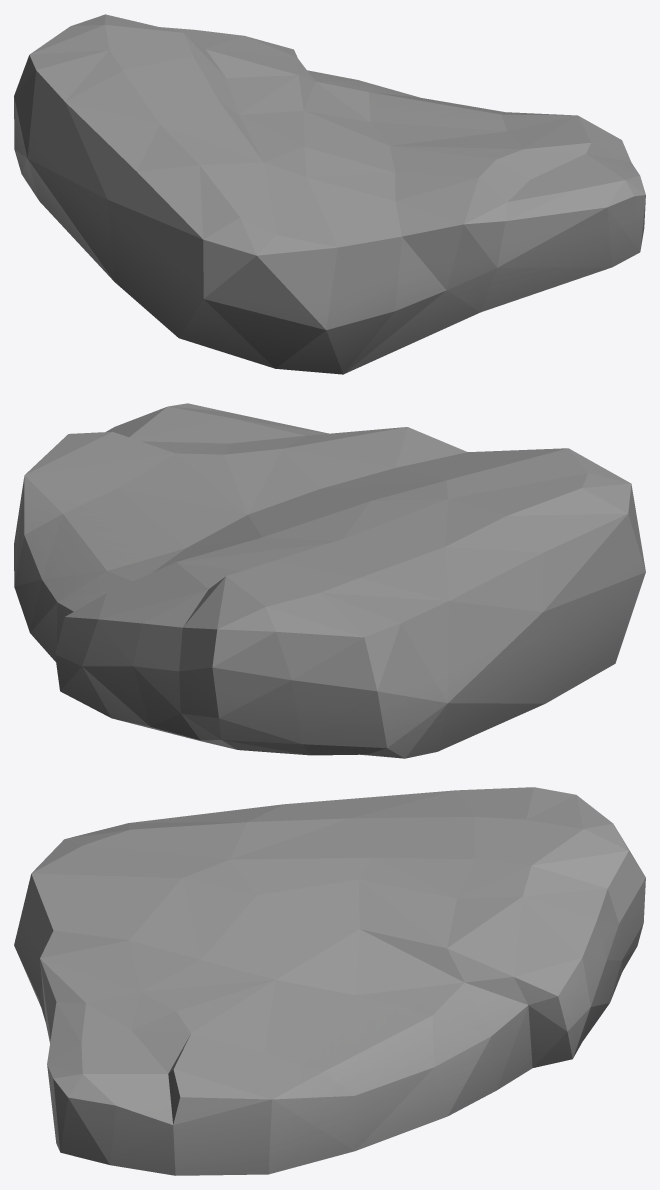
The model's file is Jungle_PlatformRock_Med_C.fbx.
The picture shows the model from 3 angles, top to bottom: view 1: azimuth 30°, elevation 25°; view 2: azimuth 150°, elevation 25°; view 3: azimuth 270°, elevation 25°; orthographic projection. The views are drawn at different scales.
Visible parts, largest first — view 1: Jungle_PlatformRock_Med_C; view 2: Jungle_PlatformRock_Med_C; view 3: Jungle_PlatformRock_Med_C.
Boxes of the visible parts, x1,y1,x2,y2 form: Jungle_PlatformRock_Med_C: (14, 14, 645, 374); Jungle_PlatformRock_Med_C: (14, 403, 645, 758); Jungle_PlatformRock_Med_C: (14, 787, 645, 1175).
Bounding box in the file's own units: 11.12 × 4.17 × 11.51.
